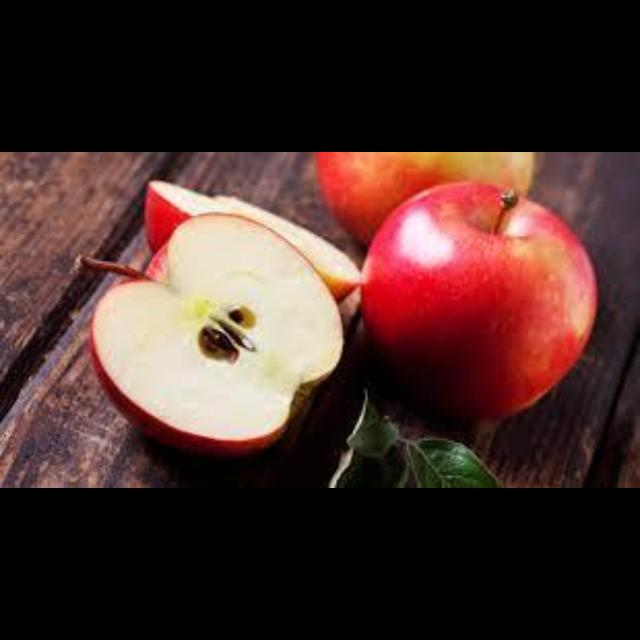apple: (76, 214, 343, 453), (361, 183, 595, 416), (145, 181, 357, 299), (316, 152, 535, 243)
